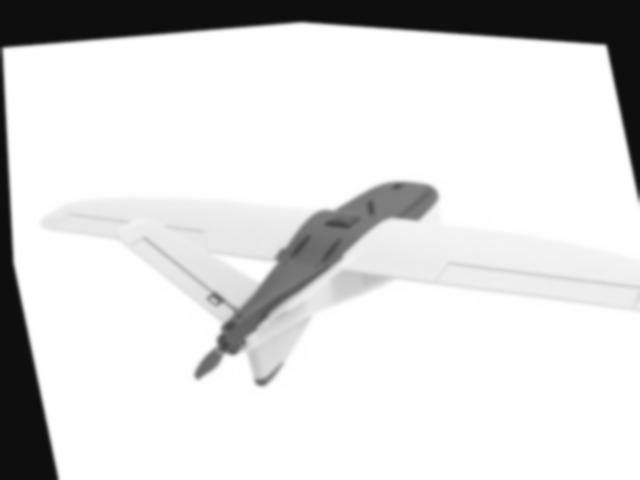uav: (25, 104, 640, 436)
